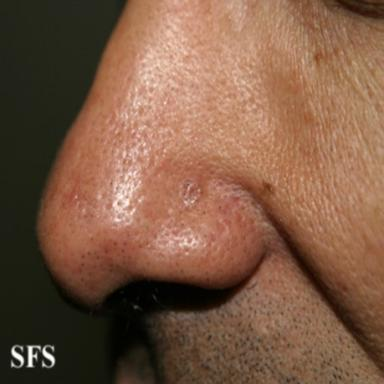basal-cell-carcinoma: (177, 174, 208, 209)
